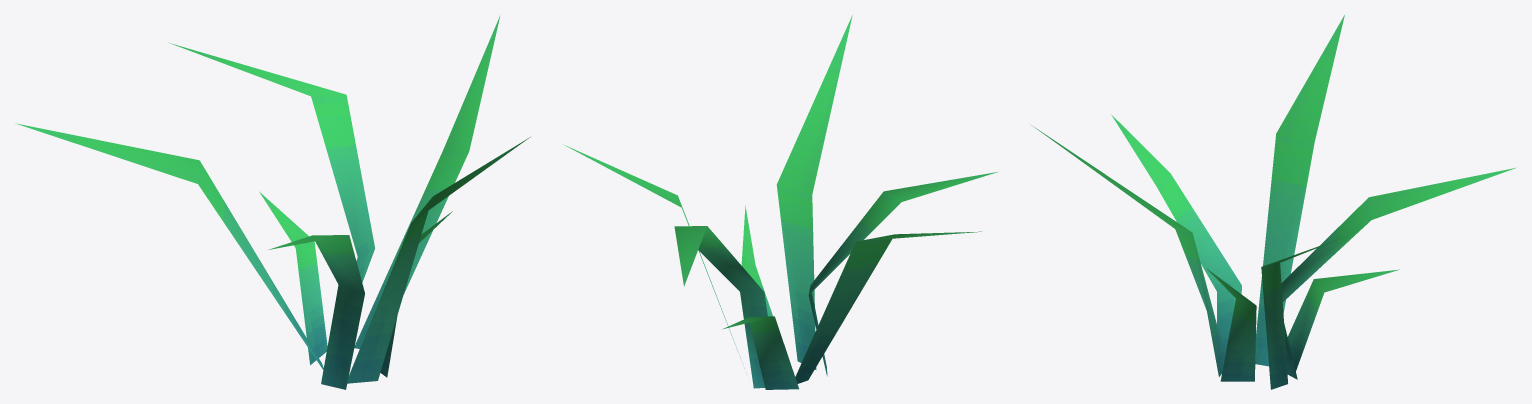
The model's file is GrassAsset2.fbx.
The picture shows the model from 3 angles, left to right: view 1: azimuth 30°, elevation 25°; view 2: azimuth 150°, elevation 25°; view 3: azimuth 270°, elevation 25°; orthographic projection. The views are drawn at different scales.
Visible parts, largest first — view 1: PlanterShort.012; view 2: PlanterShort.012; view 3: PlanterShort.012.
Part boxes in pixels (x1=…): PlanterShort.012: x1=15, y1=15, x2=530, y2=389; PlanterShort.012: x1=563, y1=15, x2=998, y2=389; PlanterShort.012: x1=1031, y1=15, x2=1516, y2=389.
Size of the model in its own units: 172 by 105 by 170.
